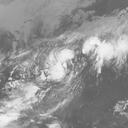cyclone: (36, 33, 92, 87)
